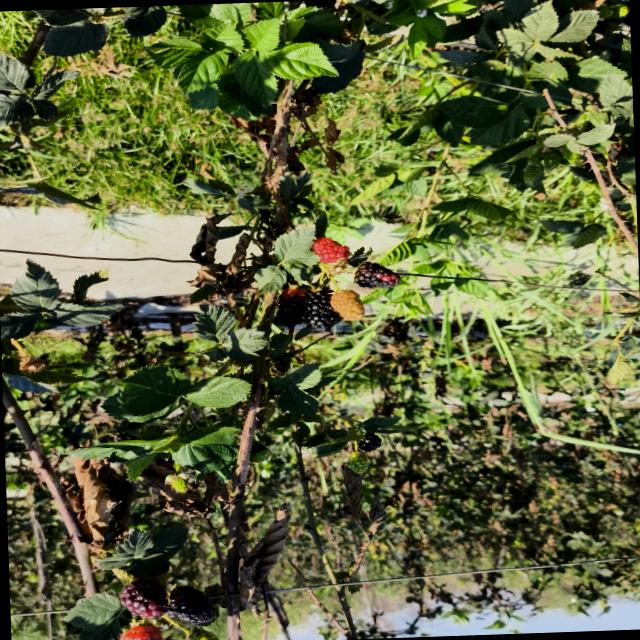maduro: (304, 289, 333, 329)
marron: (353, 261, 400, 287), (277, 288, 305, 327)
naranja: (330, 290, 364, 320), (312, 237, 350, 263)
